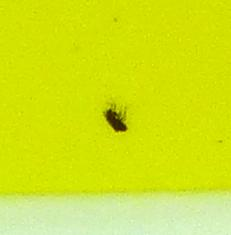Brachycera: (100, 100, 131, 135)
